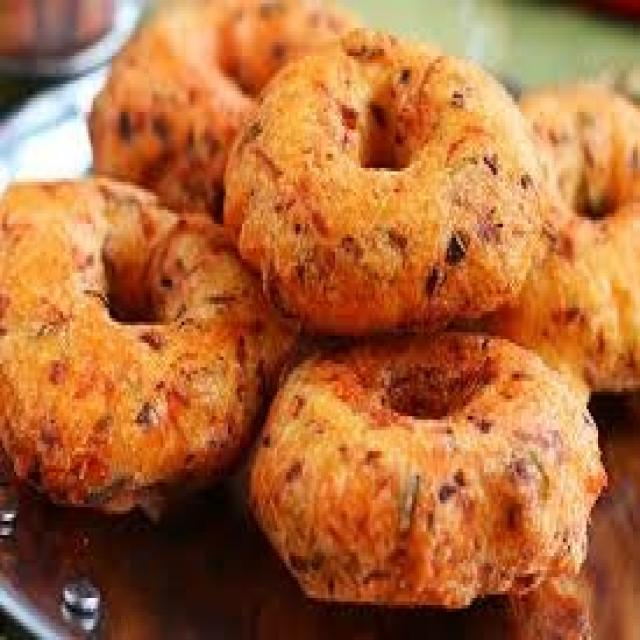medu vadai: (0, 0, 640, 640), (0, 20, 628, 636), (2, 181, 291, 506), (92, 0, 361, 212), (341, 41, 487, 186)
